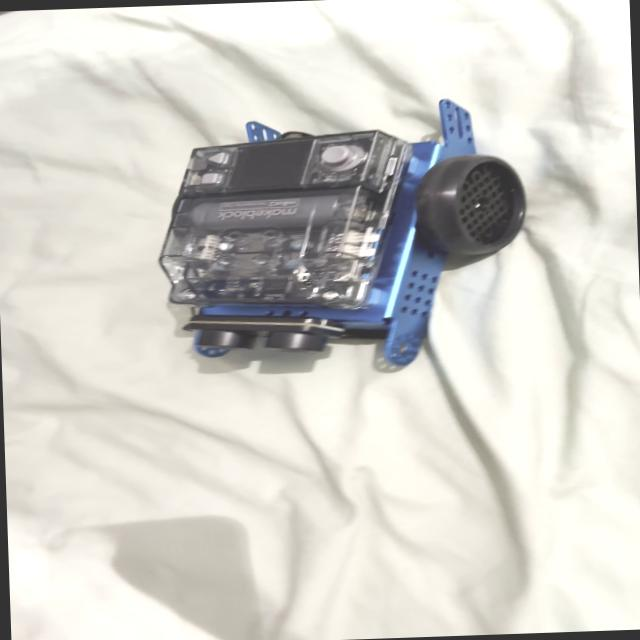mbot-detection: (138, 88, 546, 387)
